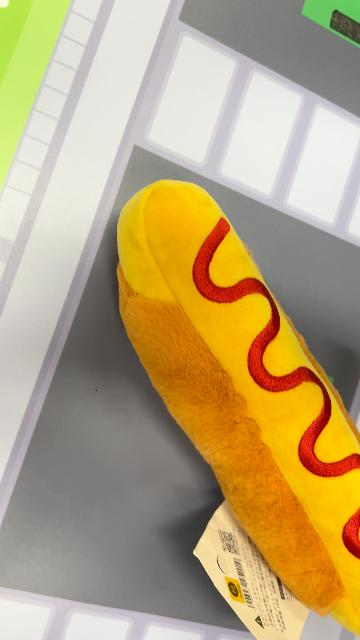hotdog: (115, 178, 359, 636)
